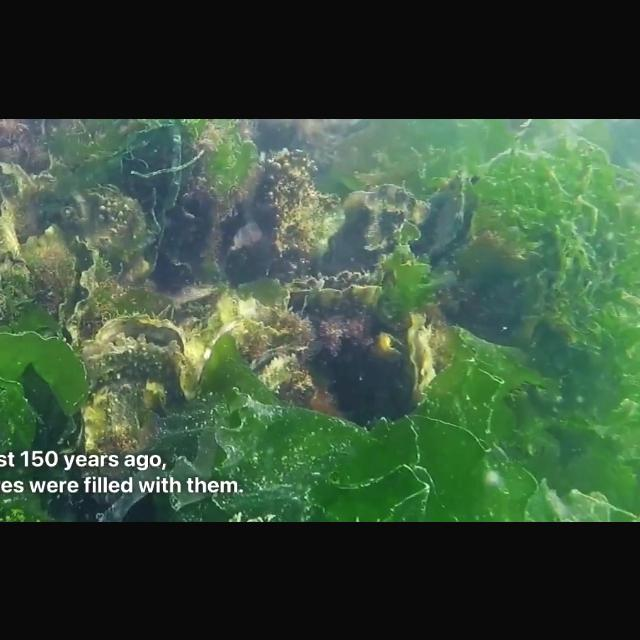Oyster-Closed: (330, 182, 432, 274), (254, 146, 326, 262), (72, 183, 156, 279)
Oyster-Open: (80, 314, 192, 450), (184, 296, 306, 369), (8, 180, 80, 294), (56, 235, 122, 349), (412, 166, 482, 268), (284, 270, 386, 318), (250, 344, 316, 404), (406, 310, 436, 392), (0, 246, 34, 294), (369, 331, 407, 361)
